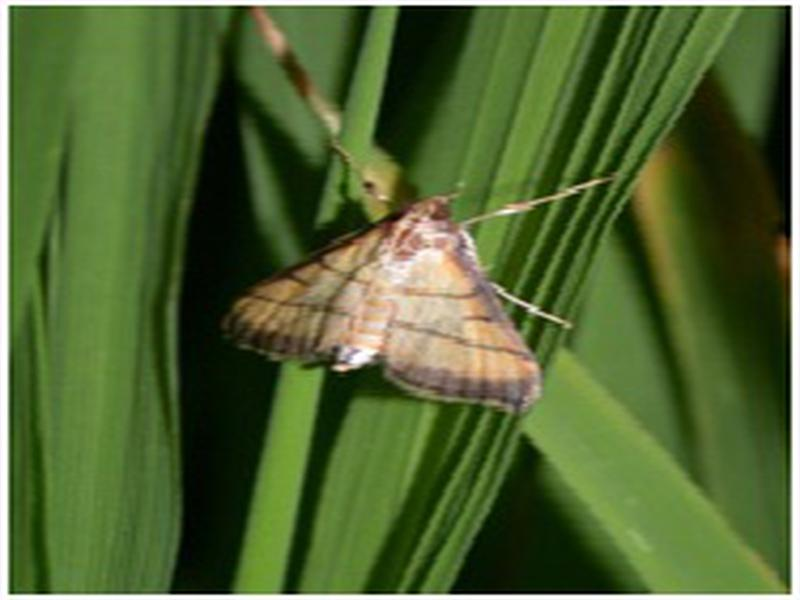Leaf_folder: (212, 183, 557, 424)
